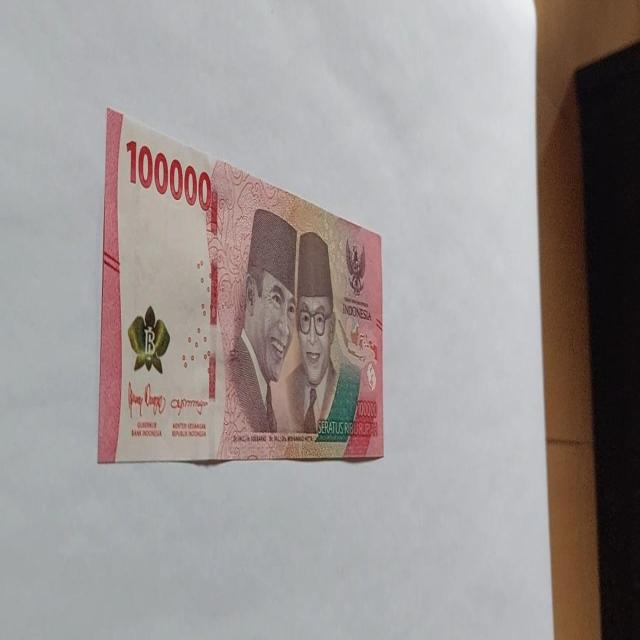Kertas: (97, 106, 385, 466), (124, 137, 212, 212)
